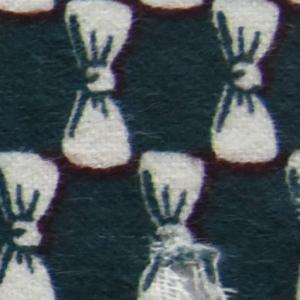Damage: (144, 225, 238, 300)
